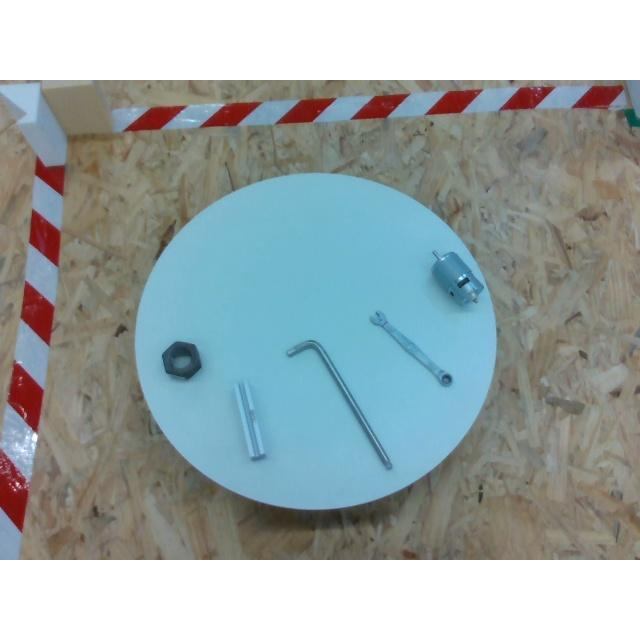AllenKey: (284, 340, 392, 468)
F20_20_G: (234, 381, 264, 459)
M30: (162, 342, 202, 378)
Motor2: (432, 251, 483, 305)
Wrench: (371, 312, 454, 384)
